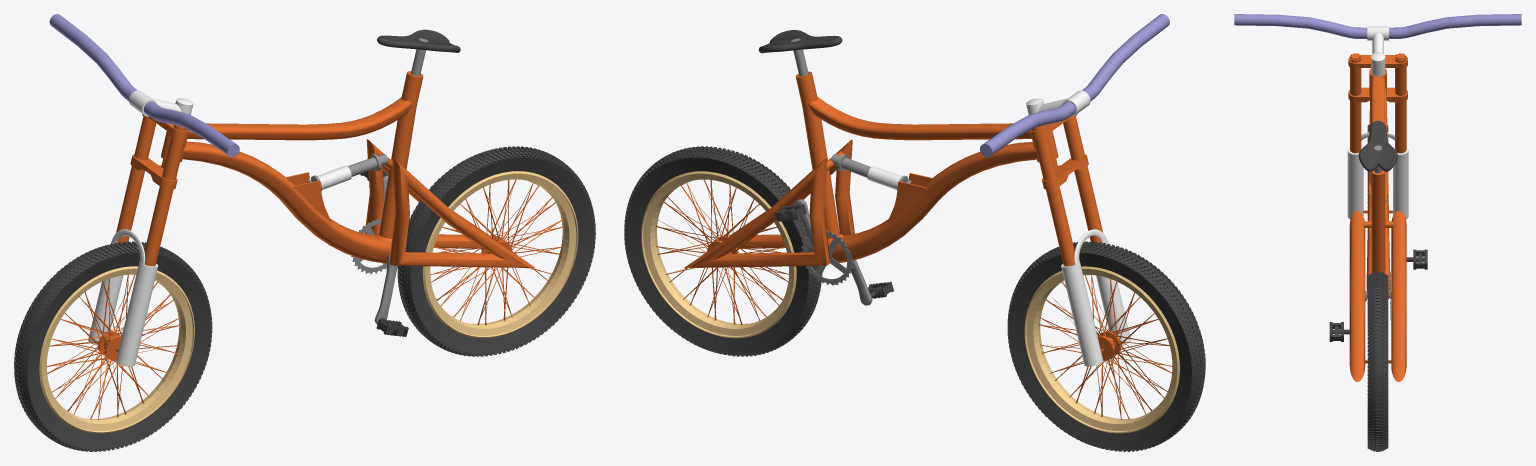
The model's file is Bike.FBX.
3 renders of one model, left to right at view 1: azimuth 30°, elevation 25°; view 2: azimuth 150°, elevation 25°; view 3: azimuth 270°, elevation 25°, orthographic. The views are drawn at different scales.
Visible parts, largest first — view 1: Cadre, Object03, Object04, Cadre_ar_, Object01, Object02, Fourche, Pneu_avt_2, Pneu_avt, Roue_avt__2, Amortisseurs_avt_, Roue_avt_ (+4 smaller); view 2: Cadre, Object03, Object04, Cadre_ar_, Object02, Object01, Fourche, Roue_avt__2, Pneu_avt_2, Amortisseurs_avt_, Roue_avt_, Guidon (+4 smaller); view 3: Cadre_ar_, Guidon, Cadre, Pneu_avt, Fourche, Object04, Amortisseurs_avt_, Selle, Potence, rPedal01, lPedal01.
Part boxes in pixels (x1=…): Cadre: x1=161, y1=71, x2=423, y2=263; Object03: x1=15, y1=242, x2=210, y2=450; Object04: x1=399, y1=147, x2=594, y2=355; Cadre_ar_: x1=364, y1=139, x2=534, y2=267; Object01: x1=422, y1=171, x2=578, y2=338; Object02: x1=39, y1=266, x2=194, y2=433; Fourche: x1=116, y1=114, x2=188, y2=366; Pneu_avt_2: x1=14, y1=241, x2=212, y2=451; Pneu_avt: x1=397, y1=146, x2=595, y2=356; Roue_avt__2: x1=47, y1=274, x2=181, y2=420; Amortisseurs_avt_: x1=88, y1=229, x2=158, y2=366; Roue_avt_: x1=430, y1=179, x2=564, y2=325; Cadre: x1=795, y1=71, x2=1058, y2=262; Object03: x1=1008, y1=243, x2=1203, y2=450; Object04: x1=625, y1=148, x2=819, y2=355; Cadre_ar_: x1=684, y1=139, x2=854, y2=268; Object02: x1=1024, y1=266, x2=1179, y2=433; Object01: x1=641, y1=171, x2=796, y2=338; Fourche: x1=1030, y1=114, x2=1127, y2=345; Roue_avt__2: x1=1038, y1=275, x2=1172, y2=419; Pneu_avt_2: x1=1007, y1=241, x2=1205, y2=451; Amortisseurs_avt_: x1=1061, y1=229, x2=1131, y2=366; Roue_avt_: x1=655, y1=179, x2=788, y2=324; Guidon: x1=980, y1=14, x2=1169, y2=157; Cadre_ar_: x1=1349, y1=211, x2=1406, y2=381; Guidon: x1=1234, y1=14, x2=1521, y2=38; Cadre: x1=1366, y1=69, x2=1390, y2=299; Pneu_avt: x1=1367, y1=271, x2=1387, y2=451; Fourche: x1=1348, y1=53, x2=1407, y2=153; Object04: x1=1368, y1=273, x2=1388, y2=450; Amortisseurs_avt_: x1=1347, y1=132, x2=1408, y2=219; Selle: x1=1358, y1=120, x2=1397, y2=171; Potence: x1=1367, y1=26, x2=1388, y2=76; rPedal01: x1=1406, y1=249, x2=1427, y2=269; lPedal01: x1=1329, y1=322, x2=1349, y2=341.
Bounding box in the file's own units: 296 × 177 × 158.
